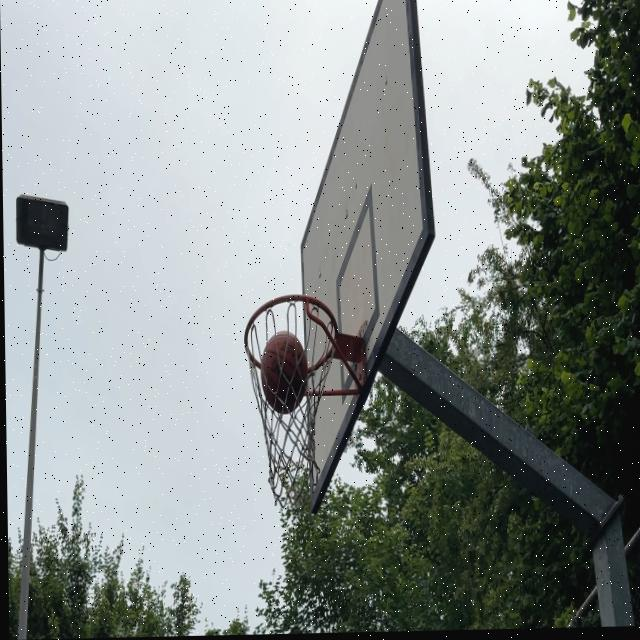Goal: (260, 329, 308, 414)
